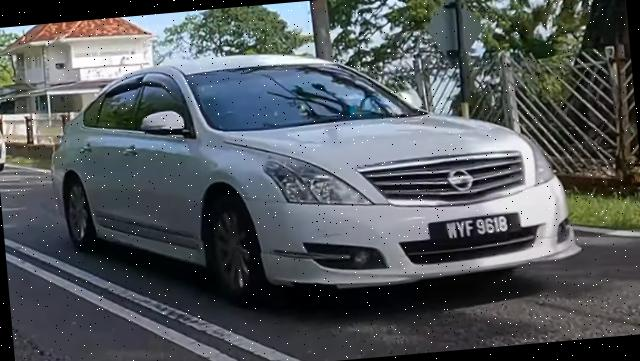License_Plate: (431, 213, 521, 242)
car: (40, 25, 584, 321)
